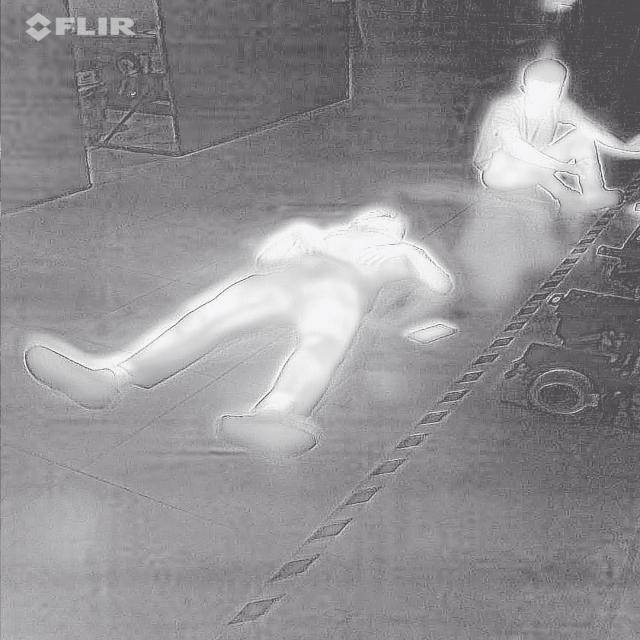Victim: (10, 202, 456, 452), (470, 46, 639, 218)
